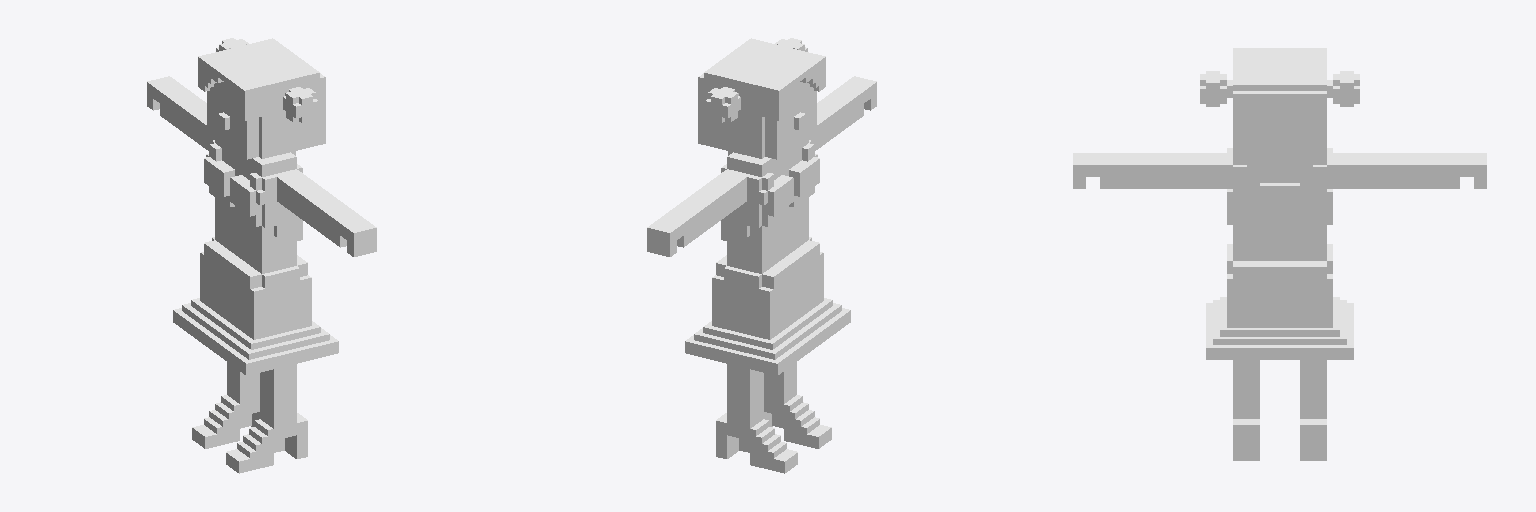
File: female_char_2.obj
3 renders of one model, left to right at view 1: azimuth 30°, elevation 25°; view 2: azimuth 150°, elevation 25°; view 3: azimuth 270°, elevation 25°, orthographic.
Parts seen in each view (by area): view 1: object 1; view 2: object 1; view 3: object 1.
Boxes of the visible parts, x1=… form: object 1: x1=147, y1=38, x2=376, y2=473; object 1: x1=647, y1=38, x2=876, y2=473; object 1: x1=1073, y1=48, x2=1486, y2=460.
Size of the model in its own units: 1.6 by 6.3 by 6.2.